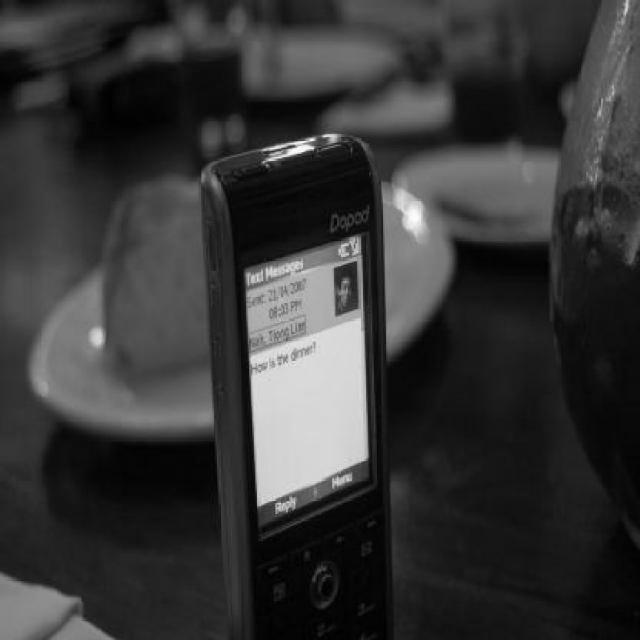fake: (196, 129, 395, 640)
